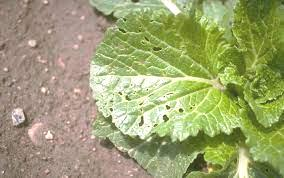Bok-Choy-Diseased: (87, 11, 258, 135)
